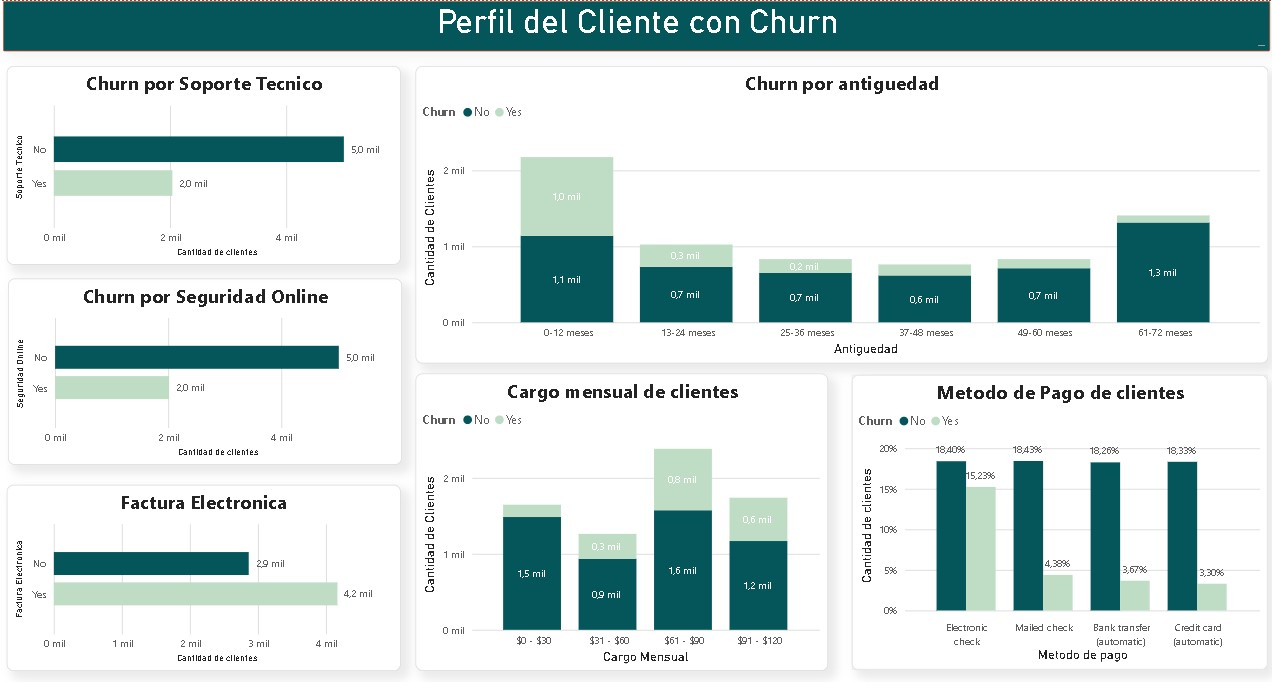

This screenshot's page, from the dashboard's own definition file:
{"tool":"powerbi","page":{"name":"Página 2","canvas":[1500,790],"ordinal":1},"visuals":[{"type":"columnChart","title":"Churn por antiguedad","fields":{"Category":["customer_churn_clean.Rango Tenure"],"Y":["customer_churn_clean.total de clientes"],"Series":["customer_churn_clean.Churn"]},"box":[495.7,75.4,988.4,344.9],"z":5001},{"type":"columnChart","title":"Cargo mensual de clientes","fields":{"Y":["customer_churn_clean.total de clientes"],"Series":["customer_churn_clean.Churn"],"Category":["customer_churn_clean.Rango Monthly Charges"]},"box":[495.7,431.9,478.3,344.9],"z":5002},{"type":"clusteredColumnChart","title":"Metodo de Pago de clientes","fields":{"Y":["customer_churn_clean.total de clientes","select"],"Category":["customer_churn_clean.PaymentMethod"],"Series":["customer_churn_clean.Churn"]},"box":[1001.4,433.3,482.6,342],"z":5003},{"type":"barChart","title":"Factura Electronica","fields":{"Category":["customer_churn_clean.PaperlessBilling"],"Y":["select","CountNonNull(customer_churn_clean.Churn)"]},"box":[21.7,560.9,456.5,215.9],"z":5004},{"type":"barChart","title":"Churn por Seguridad Online","fields":{"Category":["customer_churn_clean.OnlineSecurity"],"Y":["select","CountNonNull(customer_churn_clean.Churn)"]},"box":[23.2,321.7,456.5,215.9],"z":5005},{"type":"barChart","title":"Churn por Soporte Tecnico","fields":{"Category":["customer_churn_clean.TechSupport"],"Y":["select","CountNonNull(customer_churn_clean.Churn)"]},"box":[21.7,75.4,456.5,230.4],"z":5006},{"type":"textbox","title":"Perfil del Cliente con Churn","box":[16.7,0,1470,58.4],"z":5007}]}

Visuals, with their boxes in screenshot pixels (x1, y1, x2, y2), scaled from the page's 1500x790 canvas onto the 1272x682 screenshot:
"Churn por antiguedad" columnChart: x1=420 y1=65 x2=1259 y2=363
"Cargo mensual de clientes" columnChart: x1=420 y1=373 x2=826 y2=671
"Metodo de Pago de clientes" clusteredColumnChart: x1=849 y1=374 x2=1258 y2=669
"Factura Electronica" barChart: x1=18 y1=484 x2=406 y2=671
"Churn por Seguridad Online" barChart: x1=20 y1=278 x2=407 y2=464
"Churn por Soporte Tecnico" barChart: x1=18 y1=65 x2=406 y2=264
"Perfil del Cliente con Churn" textbox: x1=14 y1=0 x2=1261 y2=50
